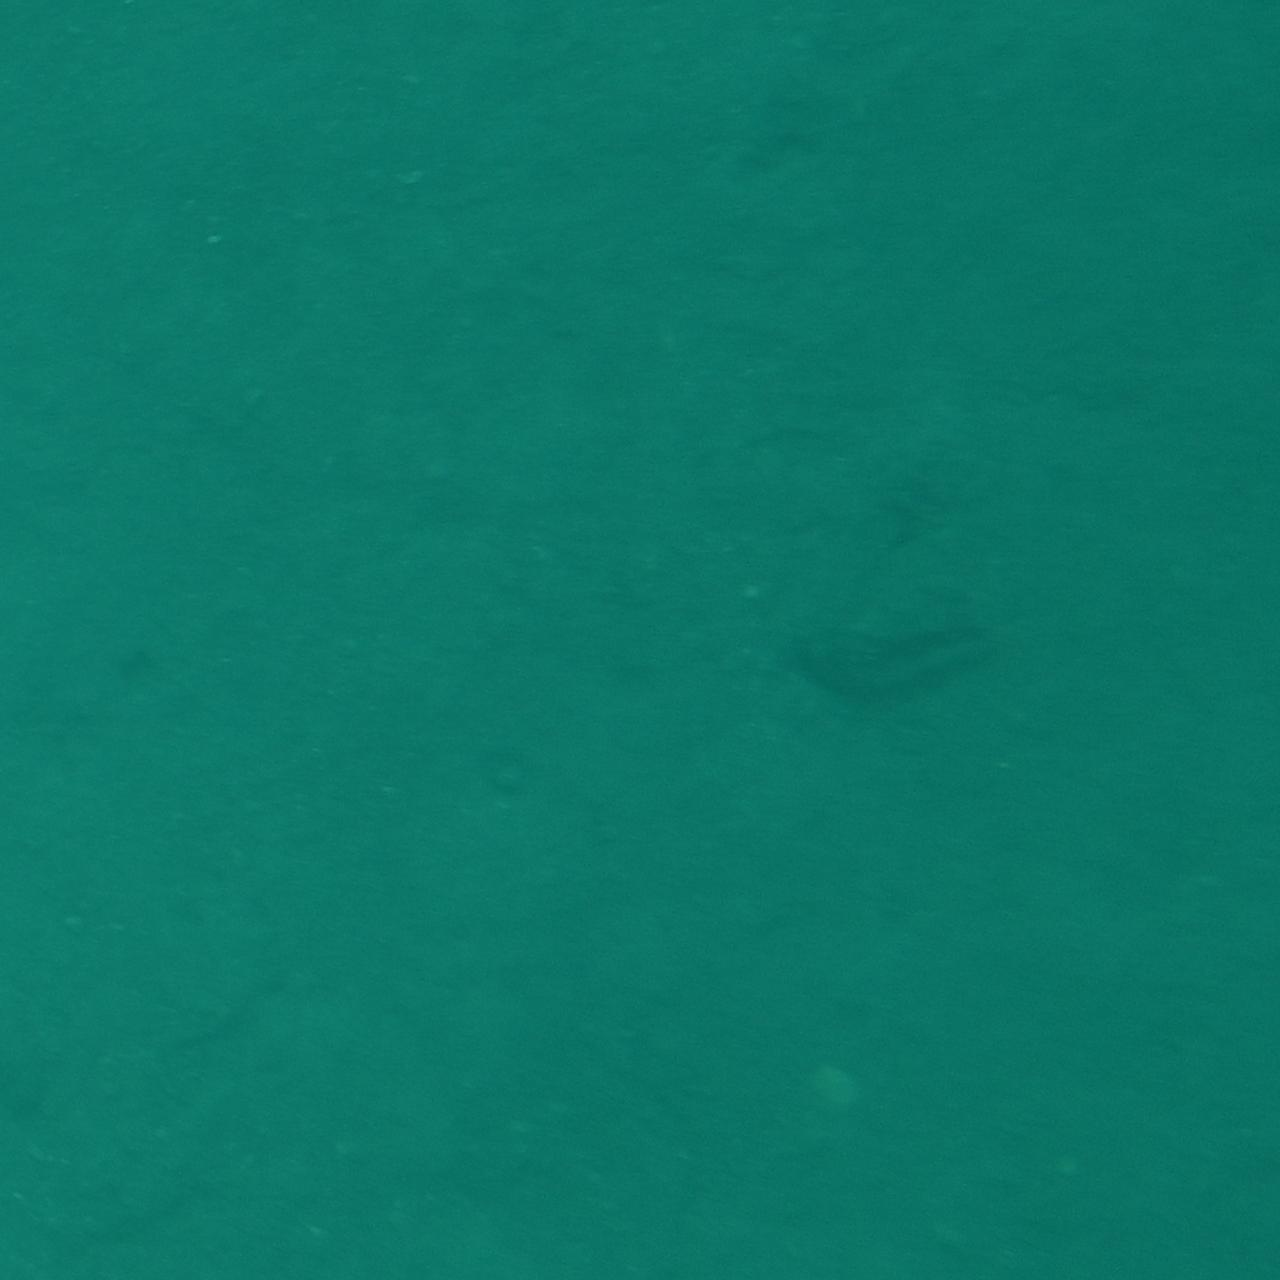Holothuria tubulosa: (776, 590, 1035, 690)
